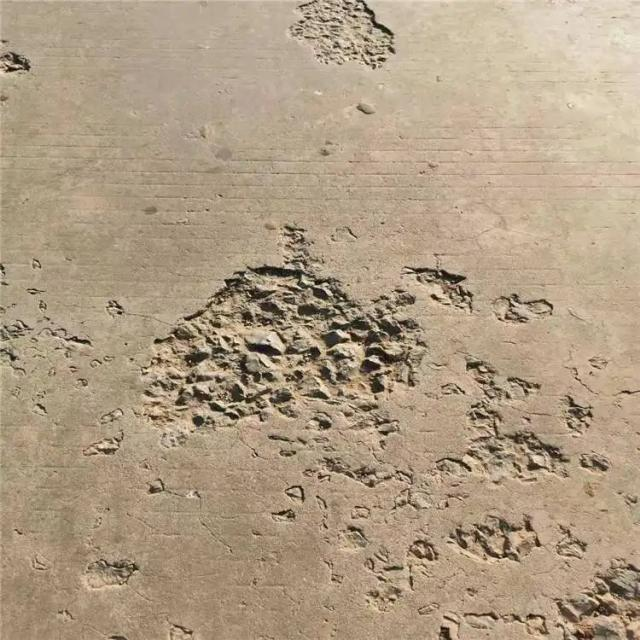Pothole: (148, 264, 420, 448), (284, 0, 400, 74), (0, 49, 32, 76)
